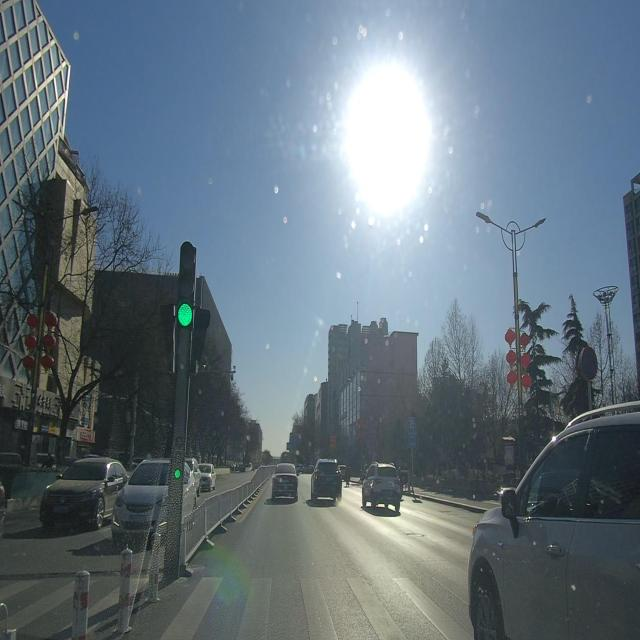Traffic Light -Green-: (177, 240, 197, 334), (172, 434, 183, 485)
Traffic Light -Off-: (191, 306, 212, 377), (159, 302, 177, 374)
